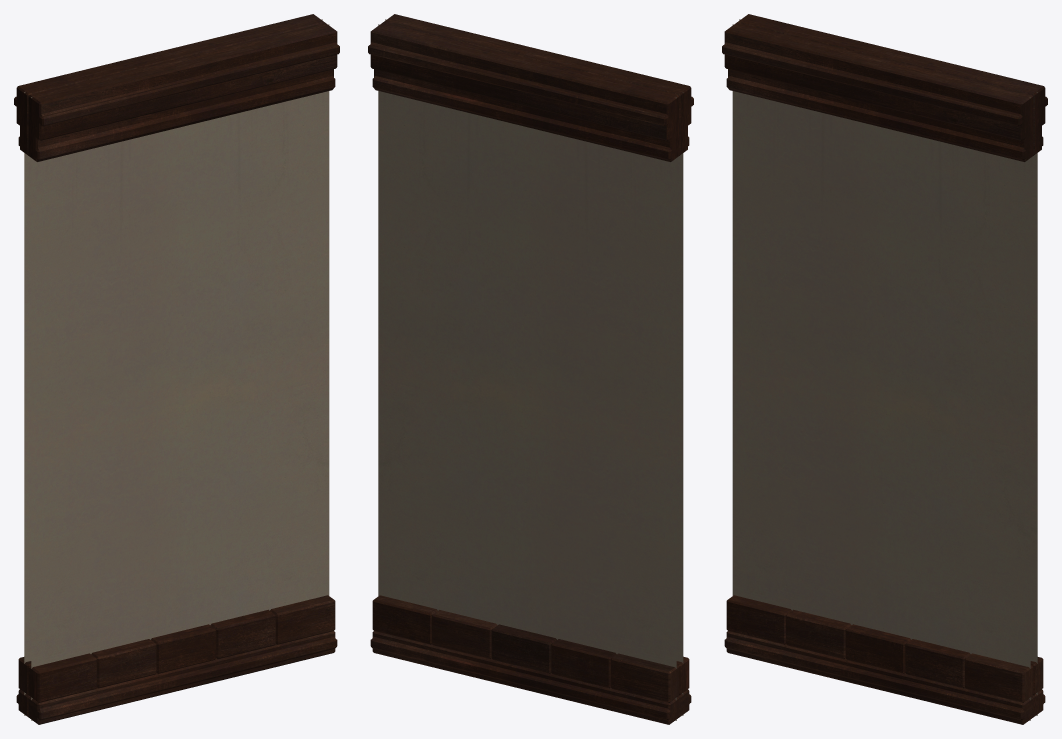
File: SK3 WALL 1 INTERIOR.fbx
3 renders of one model, left to right at view 1: azimuth 30°, elevation 25°; view 2: azimuth 150°, elevation 25°; view 3: azimuth 330°, elevation 25°, orthographic.
Parts seen in each view (by area): view 1: SK3 WALL 1 INTERIOR; view 2: SK3 WALL 1 INTERIOR; view 3: SK3 WALL 1 INTERIOR.
Boxes of the visible parts, bbox=[...] form: SK3 WALL 1 INTERIOR: bbox=[14, 14, 339, 724]; SK3 WALL 1 INTERIOR: bbox=[368, 14, 693, 724]; SK3 WALL 1 INTERIOR: bbox=[722, 14, 1047, 724].
Bounding box in the file's own units: 200 × 400 × 34.13.
